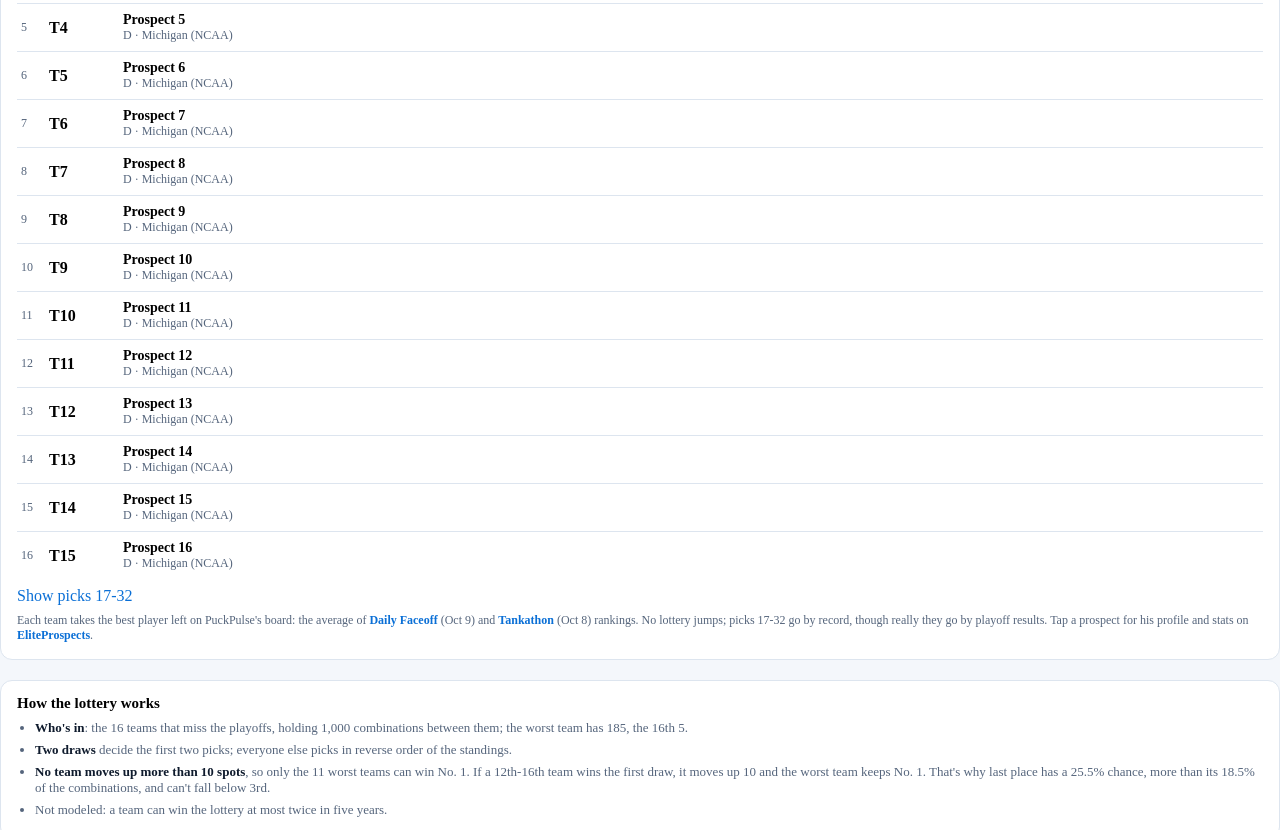
DraftLotteryPage › shows a mock draft for the chosen view, lottery picks first
(page scrolled)
What coordinates should you click on to do the following:
click the button "Show picks 17-32"
I would click on:
 (75, 596)
Its box is [17, 587, 133, 605].
(page scrolled)
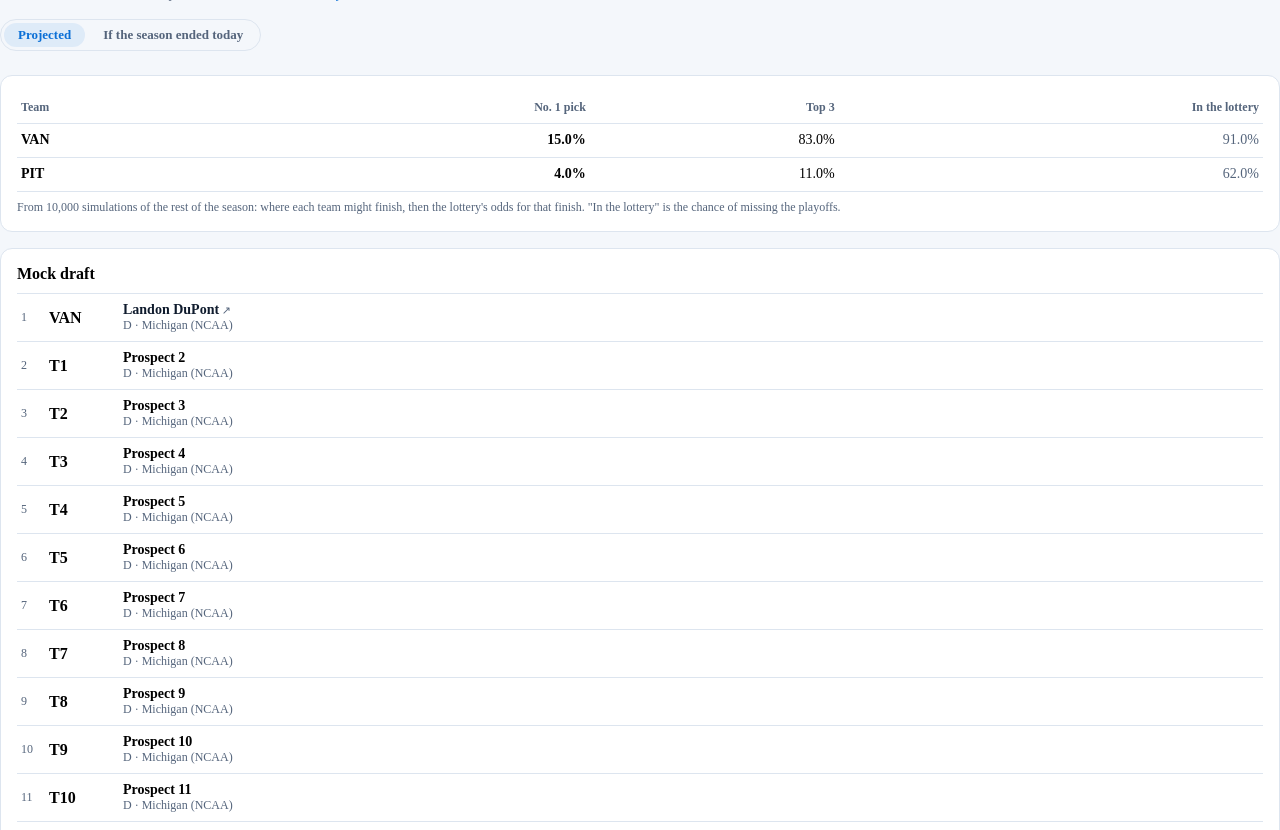
What coordinates should you click on to do the following:
click the button "If the season ended today"
I would click on:
 (173, 35)
Its box is [89, 23, 257, 47].
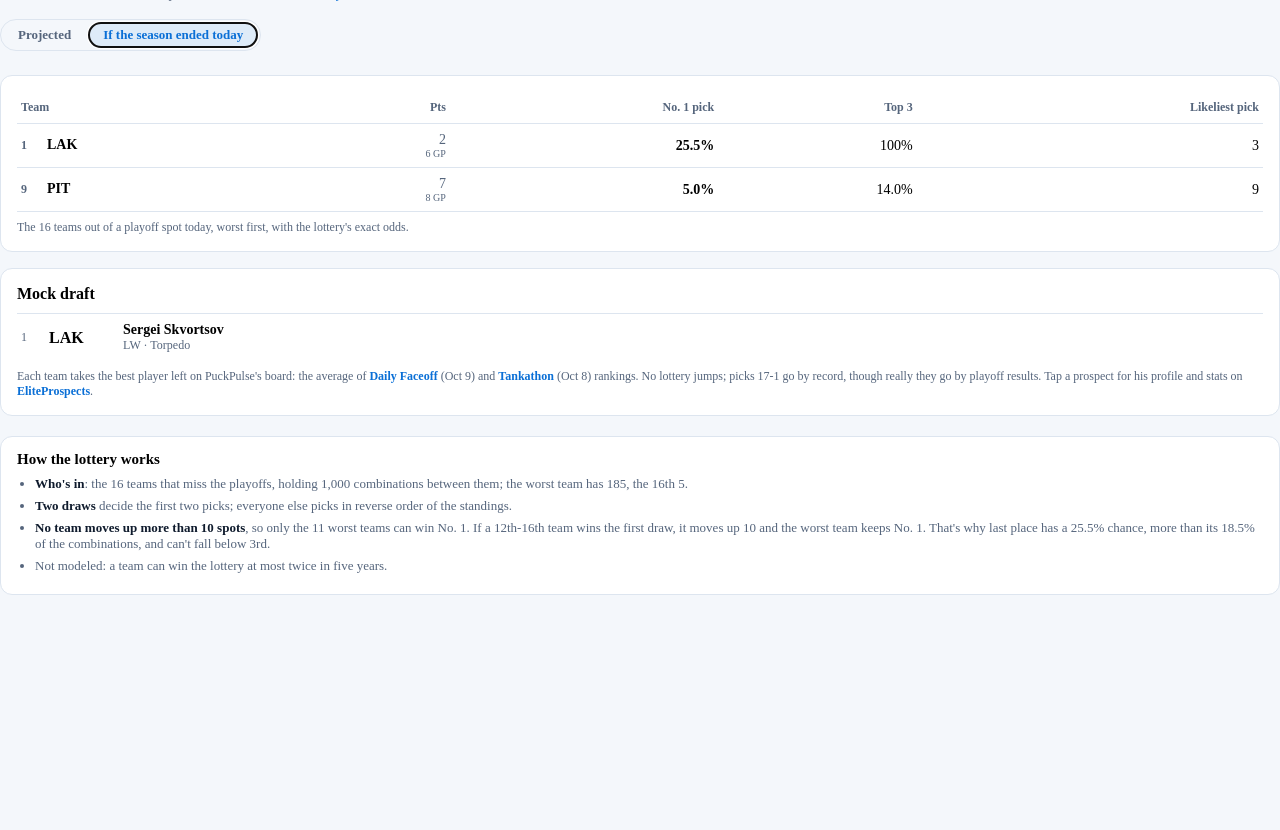
Check: the list item "Sergei Skvortsov" shows "LAK", box [49, 329, 84, 346]
Check: the link "Landon DuPont" is gone
